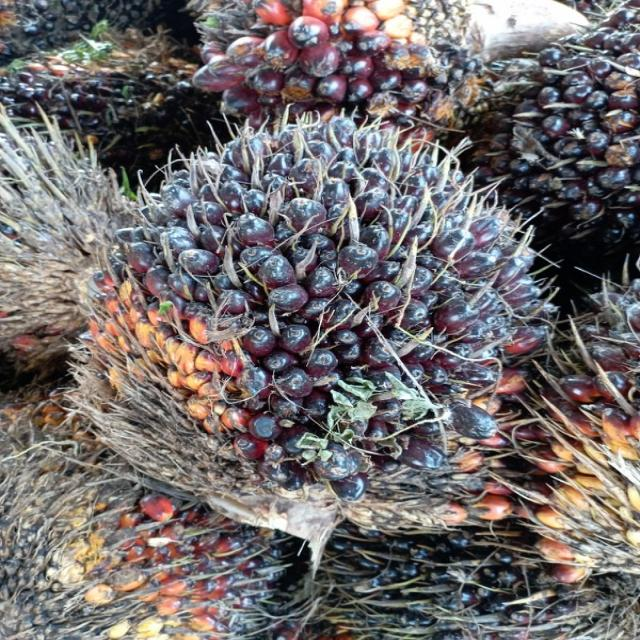fraksi 00: (87, 109, 561, 551), (484, 13, 640, 220), (6, 39, 215, 157)
fraksi 1: (196, 0, 472, 120)
